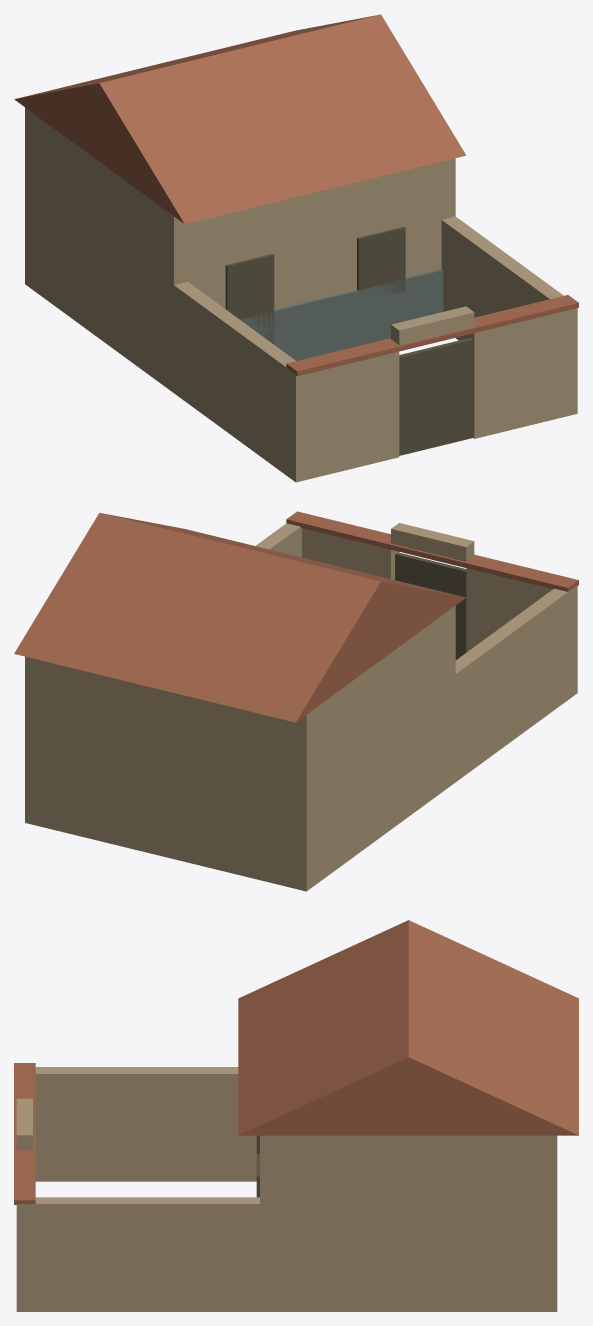
The model's file is SM_CasaPatio_v0_Porton_LOD1.fbx.
The picture shows the model from 3 angles, top to bottom: view 1: azimuth 30°, elevation 25°; view 2: azimuth 150°, elevation 25°; view 3: azimuth 270°, elevation 25°; orthographic projection.
Visible parts, largest first — view 1: SM_pueblo_valenciano_v15_LOD1; view 2: SM_pueblo_valenciano_v15_LOD1; view 3: SM_pueblo_valenciano_v15_LOD1.
Part boxes in pixels (bbox=[...]): SM_pueblo_valenciano_v15_LOD1: bbox=[14, 14, 578, 482]; SM_pueblo_valenciano_v15_LOD1: bbox=[14, 511, 578, 891]; SM_pueblo_valenciano_v15_LOD1: bbox=[14, 920, 578, 1311].
Size of the model in its own units: 6 by 5.2 by 10.45.
